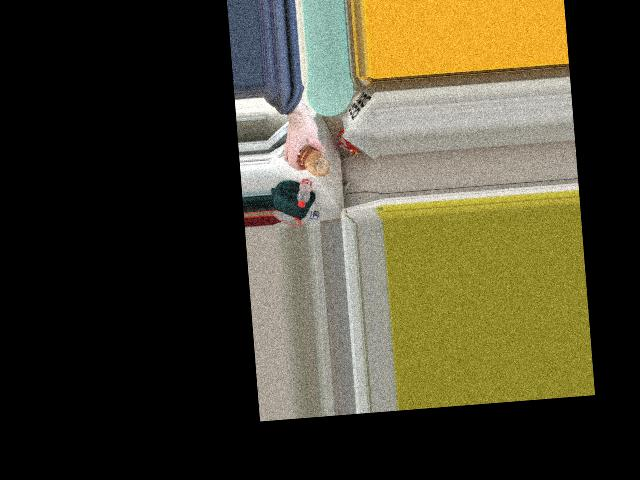sweet_potato: (299, 143, 329, 179)
